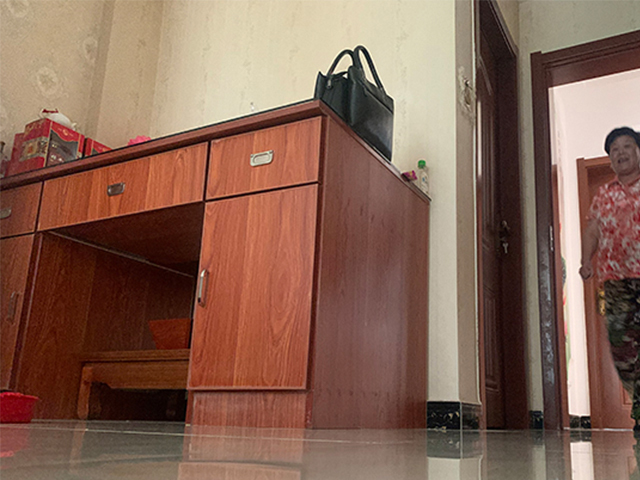table: (1, 96, 435, 430)
